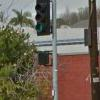Tree: (0, 21, 38, 98)
